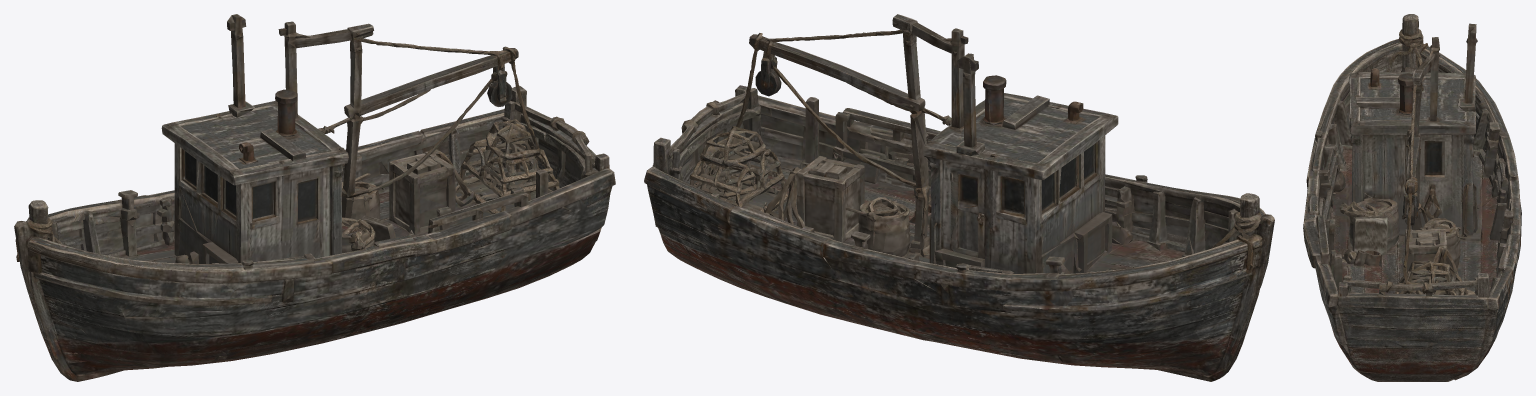
The model's file is fishing_boat.glb.
3 renders of one model, left to right at view 1: azimuth 30°, elevation 25°; view 2: azimuth 150°, elevation 25°; view 3: azimuth 270°, elevation 25°, orthographic. The views are drawn at different scales.
Visible parts, largest first — view 1: fishing_boat; view 2: fishing_boat; view 3: fishing_boat.
Part boxes in pixels (bbox=[...]): fishing_boat: bbox=[14, 14, 615, 381]; fishing_boat: bbox=[644, 14, 1274, 381]; fishing_boat: bbox=[1303, 14, 1521, 381].
Bounding box in the file's own units: 1.9 × 0.9474 × 0.7429.
Materials: 1 (1 with a texture image).
